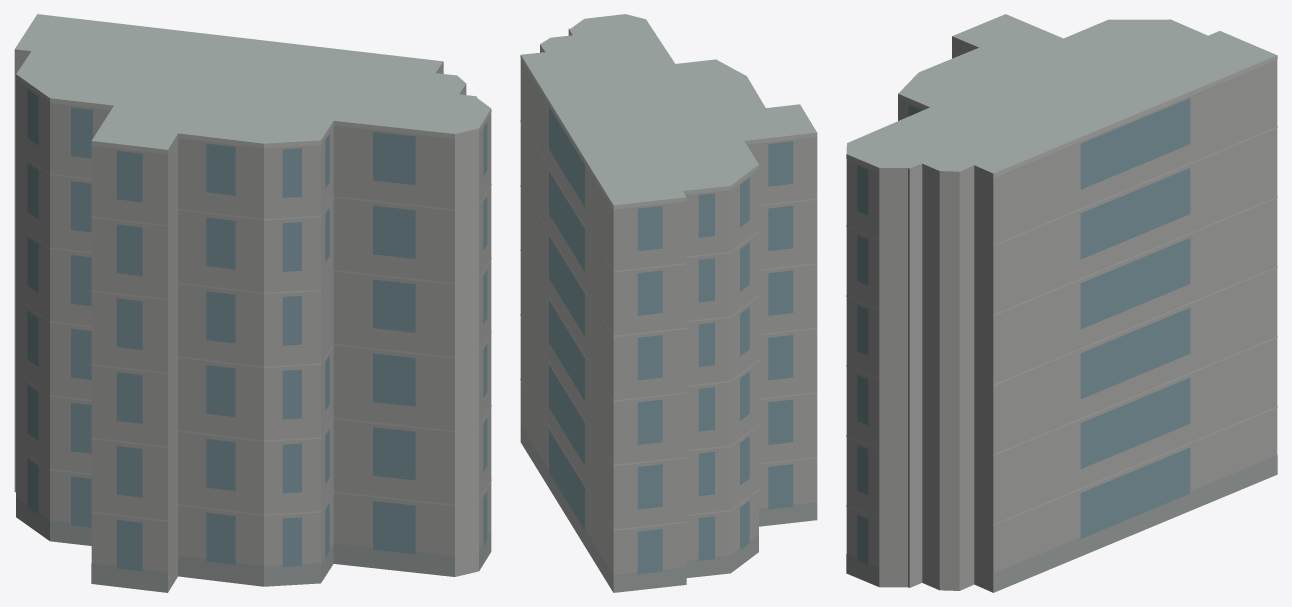
The model's file is survey-upis-32661000.glb.
3 views of the same model, side by side, from view 1: azimuth 30°, elevation 25°; view 2: azimuth 150°, elevation 25°; view 3: azimuth 270°, elevation 25° (orthographic). The views are drawn at different scales.
Parts seen in each view (by area): view 1: survey-upis-32661000.tmp; view 2: survey-upis-32661000.tmp; view 3: survey-upis-32661000.tmp.
Boxes of the visible parts, bbox=[...] form: survey-upis-32661000.tmp: bbox=[14, 14, 491, 592]; survey-upis-32661000.tmp: bbox=[520, 14, 817, 592]; survey-upis-32661000.tmp: bbox=[846, 14, 1277, 592].
Bounding box in the file's own units: 18.58 × 22.74 × 21.2.
